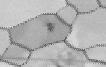good_void: (47, 22, 55, 33)
